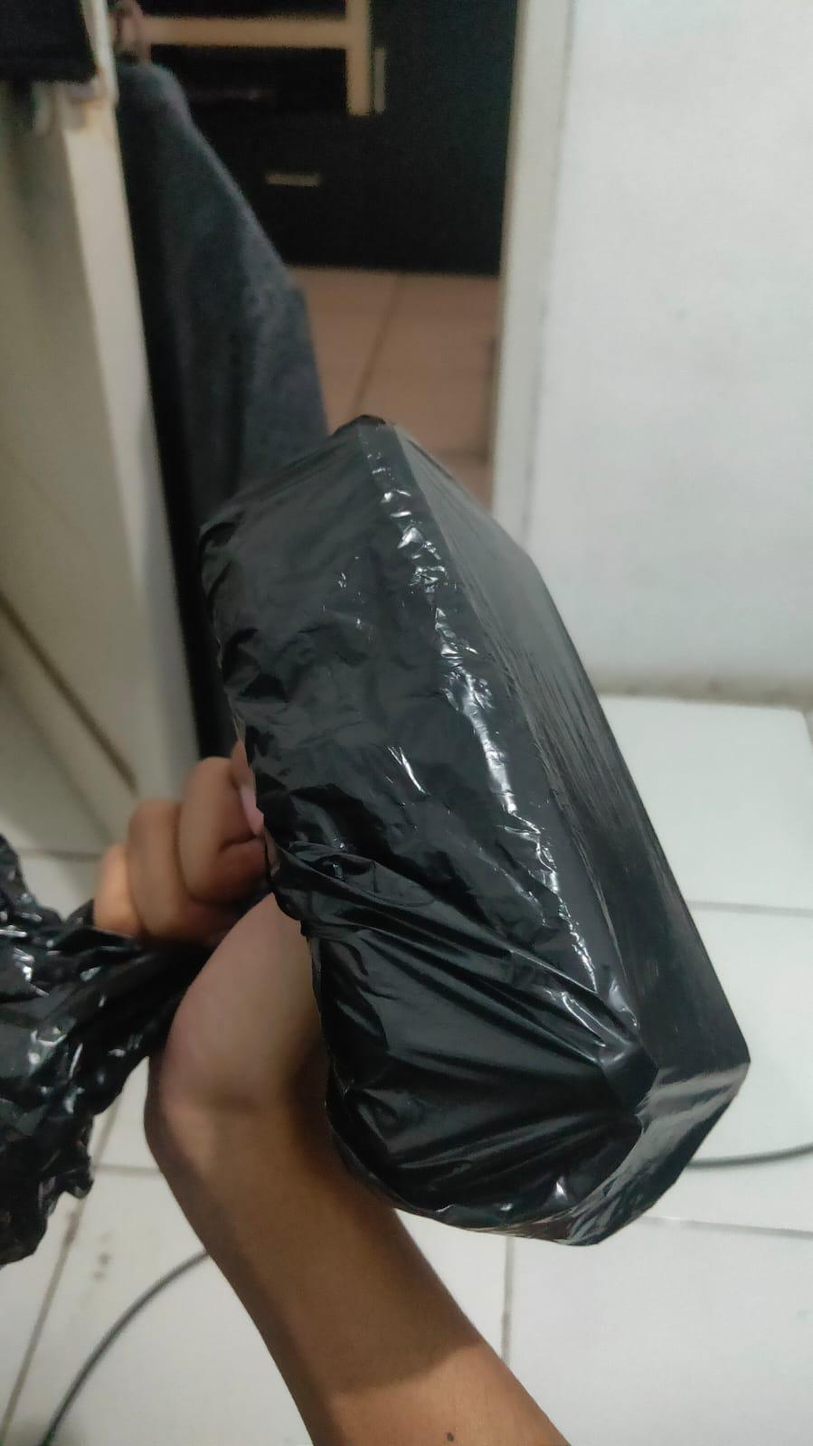undamaged: (167, 395, 765, 1264)
